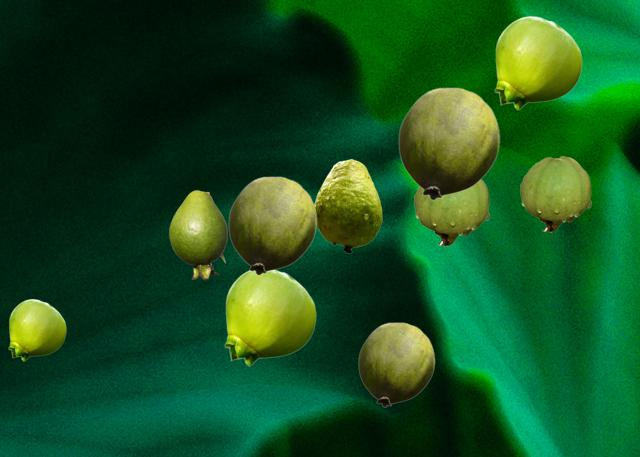guava: (398, 87, 499, 199), (224, 270, 315, 365), (228, 176, 316, 274), (494, 16, 581, 109), (358, 322, 434, 406), (314, 159, 381, 252), (520, 156, 590, 231), (169, 190, 226, 279), (414, 179, 488, 245), (8, 299, 65, 360)
